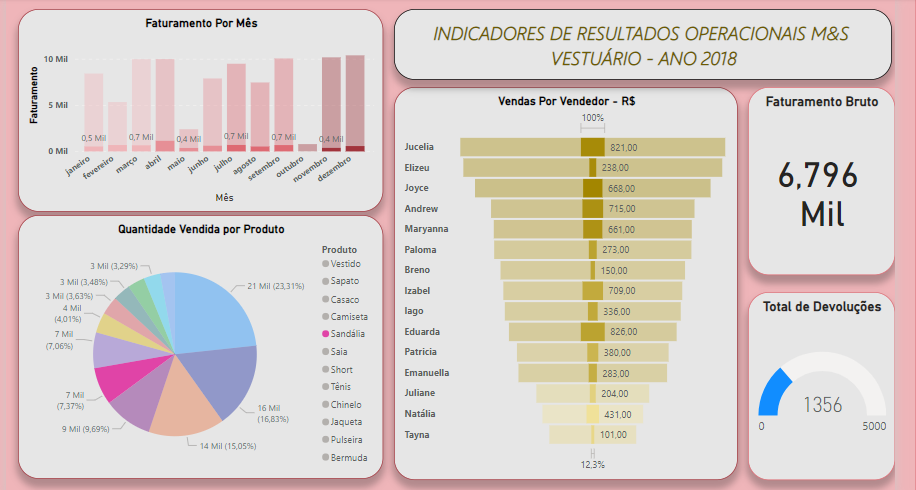

What the dashboard file says about the page in this screenshot:
{"tool":"powerbi","page":{"name":"Página 1","canvas":[1280,720],"ordinal":0},"visuals":[{"type":"clusteredColumnChart","title":"Faturamento Por Mês","fields":{"Category":["DadosProdutos.Data da Venda.Variation.Hierarquia de datas.Mês"],"Y":["Sum(DadosProdutos.Quantidade Vendida)"]},"box":[17,15.7,526.3,291.9],"z":0},{"type":"pieChart","title":"Quantidade Vendida por Produto","fields":{"Y":["Sum(DadosProdutos.Quantidade Vendida)"],"Category":["DadosProdutos.Produto"]},"box":[17,312.9,526.3,379.6],"z":1000},{"type":"funnel","title":"Vendas Por Vendedor - R$","fields":{"Category":["DadosProdutos.Nome"],"Y":["Sum(DadosProdutos.Quantidade Vendida)"]},"box":[558.8,128,495.5,565.7],"z":2000},{"type":"textbox","box":[558.7,15.8,717.1,102.2],"z":3000},{"type":"gauge","title":"Total de Devoluções","fields":{"Y":["Sum(DadosDevolução.Quantidade Devolvida)"]},"box":[1068.5,423.4,211.7,270.7],"z":4000},{"type":"card","title":"Faturamento Bruto","fields":{"Values":["Sum(DadosProdutos.Quantidade Vendida)"]},"box":[1068.5,128.2,211.7,270.7],"z":5000}]}

Visuals, with their boxes in screenshot pixels (x1, y1, x2, y2):
"Faturamento Por Mês" clusteredColumnChart: [14,6,380,209]
"Quantidade Vendida por Produto" pieChart: [14,213,380,476]
"Vendas Por Vendedor - R$" funnel: [390,84,735,477]
textbox: [390,6,888,77]
"Total de Devoluções" gauge: [744,289,891,477]
"Faturamento Bruto" card: [744,84,891,272]
